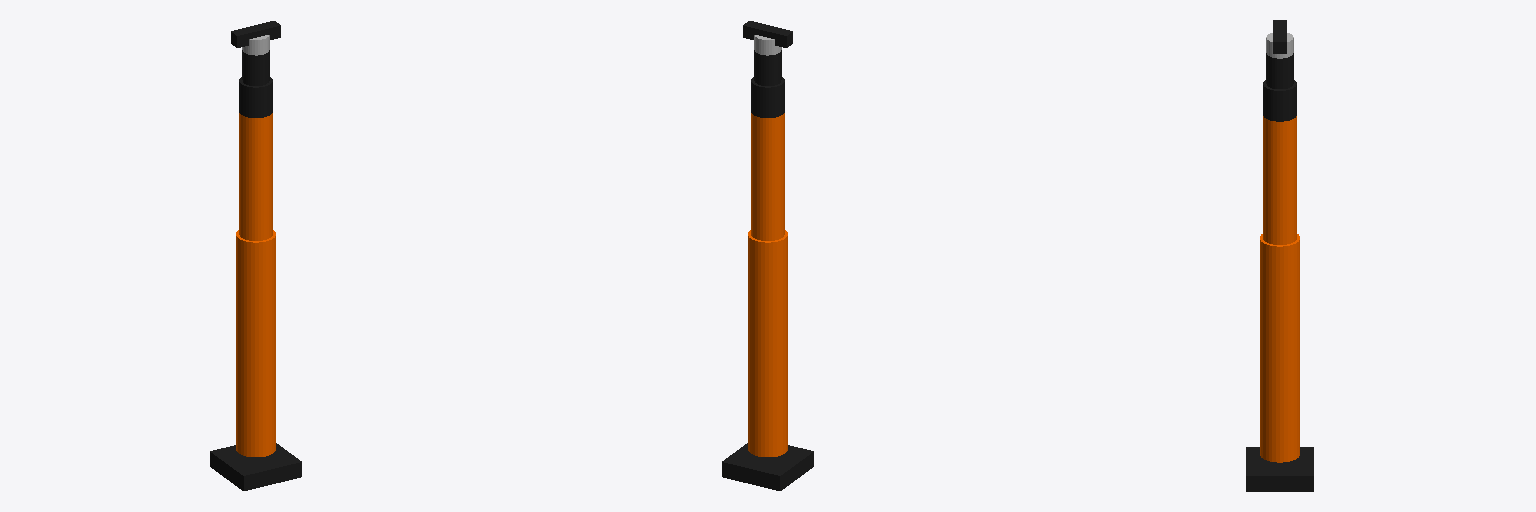
URDF robot description (six_dof_robot):
<?xml version="1.0"?>
<robot name="six_dof_robot">

  <material name="industrial_orange"><color rgba="1.0 0.45 0.0 1"/></material>
  <material name="dark_grey"><color rgba="0.15 0.15 0.15 1"/></material>
  <material name="metal_silver"><color rgba="0.75 0.75 0.75 1"/></material>

  <link name="world"/>
  <joint name="world_joint" type="fixed">
    <parent link="world"/>
    <child link="base_link"/>
  </joint>

  <link name="base_link">
    <visual>
      <geometry><box size="0.2 0.2 0.05"/></geometry>
      <material name="dark_grey"/>
    </visual>
    <collision><geometry><box size="0.2 0.2 0.05"/></geometry></collision>
    <inertial><mass value="10.0"/><inertia ixx="0.1" ixy="0" ixz="0" iyy="0.1" iyz="0" izz="0.1"/></inertial>
  </link>

  <joint name="joint1" type="revolute">
    <parent link="base_link"/>
    <child link="link1"/>
    <origin xyz="0 0 0.05" rpy="0 0 0"/>
    <axis xyz="0 0 1"/>
    <limit lower="-3.14" upper="3.14" effort="50.0" velocity="5.0"/> 
    <dynamics damping="0.5" friction="0.1"/>
  </joint>
  <link name="link1">
    <visual>
      <origin xyz="0 0 0.15" rpy="0 0 0"/>
      <geometry><cylinder length="0.3" radius="0.06"/></geometry>
      <material name="industrial_orange"/>
    </visual>
    <collision>
      <origin xyz="0 0 0.15" rpy="0 0 0"/>
      <geometry><cylinder length="0.29" radius="0.06"/></geometry>
    </collision>
    <inertial>
      <mass value="2.0"/>
      <inertia ixx="0.016" ixy="0" ixz="0" iyy="0.016" iyz="0" izz="0.0036"/>
    </inertial>
  </link>

  <joint name="joint2" type="revolute">
    <parent link="link1"/>
    <child link="link2"/>
    <origin xyz="0 0 0.3" rpy="0 0 0"/>
    <axis xyz="0 1 0"/>
    <limit lower="-1.57" upper="1.57" effort="50.0" velocity="5.0"/>
    <dynamics damping="0.5" friction="0.1"/>
  </joint>
  <link name="link2">
    <visual>
      <origin xyz="0 0 0.2" rpy="0 0 0"/>
      <geometry><cylinder length="0.4" radius="0.06"/></geometry>
      <material name="industrial_orange"/>
    </visual>
    <collision>
      <origin xyz="0 0 0.2" rpy="0 0 0"/>
      <geometry><cylinder length="0.39" radius="0.06"/></geometry>
    </collision>
    <inertial>
      <mass value="1.0"/>
      <inertia ixx="0.014" ixy="0" ixz="0" iyy="0.014" iyz="0" izz="0.0018"/>
    </inertial>
  </link>

  <joint name="joint3" type="revolute">
    <parent link="link2"/>
    <child link="link3"/>
    <origin xyz="0 0 0.4" rpy="0 0 0"/>
    <axis xyz="0 1 0"/>
    <limit lower="-1.57" upper="1.57" effort="50.0" velocity="5.0"/>
    <dynamics damping="0.5" friction="0.1"/>
  </joint>
  <link name="link3">
    <visual>
      <origin xyz="0 0 0.2" rpy="0 0 0"/>
      <geometry><cylinder length="0.4" radius="0.05"/></geometry>
      <material name="industrial_orange"/>
    </visual>
    <collision>
      <origin xyz="0 0 0.2" rpy="0 0 0"/>
      <geometry><cylinder length="0.39" radius="0.05"/></geometry>
    </collision>
    <inertial>
      <mass value="1.0"/>
      <inertia ixx="0.014" ixy="0" ixz="0" iyy="0.014" iyz="0" izz="0.0012"/>
    </inertial>
  </link>

  <joint name="joint4" type="revolute">
    <parent link="link3"/>
    <child link="link4"/>
    <origin xyz="0 0 0.4" rpy="0 0 0"/>
    <axis xyz="1 0 0"/>
    <limit lower="-3.14" upper="3.14" effort="30.0" velocity="5.0"/>
    <dynamics damping="0.5" friction="0.1"/>
  </joint>
  <link name="link4">
    <visual>
      <origin xyz="0 0 0.05" rpy="0 0 0"/>
      <geometry><cylinder length="0.1" radius="0.05"/></geometry>
      <material name="dark_grey"/>
    </visual>
    <collision>
      <origin xyz="0 0 0.05" rpy="0 0 0"/>
      <geometry><cylinder length="0.09" radius="0.05"/></geometry>
    </collision>
    <inertial><mass value="0.5"/><inertia ixx="0.001" ixy="0" ixz="0" iyy="0.001" iyz="0" izz="0.001"/></inertial>
  </link>

  <joint name="joint5" type="revolute">
    <parent link="link4"/>
    <child link="link5"/>
    <origin xyz="0 0 0.1" rpy="0 0 0"/>
    <axis xyz="0 1 0"/>
    <limit lower="-1.57" upper="1.57" effort="30.0" velocity="5.0"/>
    <dynamics damping="0.1" friction="0.1"/>
  </joint>
  <link name="link5">
     <visual>
      <origin xyz="0 0 0.05" rpy="0 0 0"/>
      <geometry><cylinder length="0.1" radius="0.04"/></geometry>
      <material name="dark_grey"/>
    </visual>
    <collision>
      <origin xyz="0 0 0.05" rpy="0 0 0"/>
      <geometry><cylinder length="0.1" radius="0.04"/></geometry>
    </collision>
    <inertial><mass value="0.2"/><inertia ixx="0.001" ixy="0" ixz="0" iyy="0.001" iyz="0" izz="0.001"/></inertial>
  </link>

  <joint name="joint6" type="revolute">
    <parent link="link5"/>
    <child link="link6"/>
    <origin xyz="0 0 0.1" rpy="0 0 0"/>
    <axis xyz="1 0 0"/>
    <limit lower="-3.14" upper="3.14" effort="30.0" velocity="5.0"/>
    <dynamics damping="0.1" friction="0.1"/>
  </joint>
  <link name="link6">
    <visual>
      <origin xyz="0 0 0.025" rpy="0 0 0"/>
      <geometry><cylinder length="0.05" radius="0.04"/></geometry>
      <material name="metal_silver"/>
    </visual>
    <collision>
      <origin xyz="0 0 0.025" rpy="0 0 0"/>
      <geometry><cylinder length="0.05" radius="0.04"/></geometry>
    </collision>
    <inertial><mass value="0.1"/><inertia ixx="0.0001" ixy="0" ixz="0" iyy="0.0001" iyz="0" izz="0.0001"/></inertial>
  </link>

  <joint name="gripper_base_joint" type="fixed">
    <parent link="link6"/>
    <child link="gripper_base"/>
    <origin xyz="0 0 0.05" rpy="0 0 0"/>
  </joint>
  <link name="gripper_base">
    <visual><geometry><box size="0.15 0.04 0.04"/></geometry><material name="dark_grey"/></visual>
    <collision><geometry><box size="0.15 0.04 0.04"/></geometry></collision>
    <inertial><mass value="0.1"/><inertia ixx="0.001" ixy="0" ixz="0" iyy="0.001" iyz="0" izz="0.001"/></inertial>
  </link>

  <ros2_control name="GazeboSystem" type="system">
    <hardware><plugin>gz_ros2_control/GazeboSimSystem</plugin></hardware>
    <joint name="joint1"><command_interface name="position"/><state_interface name="position"/></joint>
    <joint name="joint2"><command_interface name="position"/><state_interface name="position"/></joint>
    <joint name="joint3"><command_interface name="position"/><state_interface name="position"/></joint>
    <joint name="joint4"><command_interface name="position"/><state_interface name="position"/></joint>
    <joint name="joint5"><command_interface name="position"/><state_interface name="position"/></joint>
    <joint name="joint6"><command_interface name="position"/><state_interface name="position"/></joint>
    <joint name="finger_left_joint"><command_interface name="position"/><state_interface name="position"/></joint>
    <joint name="finger_right_joint"><command_interface name="position"/><state_interface name="position"/></joint>
  </ros2_control>

  <gazebo>
    <plugin filename="libgz_ros2_control-system.so" name="gz_ros2_control::GazeboSimROS2ControlPlugin">
          <parameters>/home/deepak/6_dof/config/ros2_control.yaml</parameters>
       </plugin>
  </gazebo>

</robot>

--- Facts derived from the render (not from the file) ---
Views: 3 orthographic renders of the robot side by side, from view 1: azimuth 30°, elevation 25°; view 2: azimuth 150°, elevation 25°; view 3: azimuth 270°, elevation 25°.
Model six_dof_robot with 9 links and 8 joints (6 revolute, 2 fixed), rooted at world, posed every joint at zero.
Links seen in each view (by area): view 1: link2, link3, link1, base_link, link4, link5, gripper_base; view 2: link2, link3, link1, base_link, link4, link5, gripper_base; view 3: link2, link3, link1, base_link, link4, link5.
Boxes of the visible links, x1=… form: link2: x1=236, y1=230, x2=275, y2=364; link3: x1=239, y1=113, x2=272, y2=240; link1: x1=236, y1=359, x2=275, y2=456; base_link: x1=210, y1=443, x2=301, y2=490; link4: x1=239, y1=77, x2=272, y2=117; link5: x1=242, y1=50, x2=269, y2=85; gripper_base: x1=231, y1=21, x2=280, y2=47; link2: x1=748, y1=230, x2=787, y2=364; link3: x1=751, y1=113, x2=784, y2=240; link1: x1=748, y1=359, x2=787, y2=456; base_link: x1=722, y1=443, x2=813, y2=490; link4: x1=751, y1=77, x2=784, y2=117; link5: x1=754, y1=50, x2=781, y2=85; gripper_base: x1=743, y1=21, x2=792, y2=47; link2: x1=1260, y1=234, x2=1299, y2=369; link3: x1=1263, y1=116, x2=1296, y2=244; link1: x1=1260, y1=364, x2=1299, y2=462; base_link: x1=1246, y1=447, x2=1313, y2=491; link4: x1=1263, y1=80, x2=1296, y2=121; link5: x1=1266, y1=53, x2=1293, y2=88.
Bounding box of the posed robot: 0.2 × 0.2 × 1.45 m (x, y, z).
Geometry: primitives only (box / cylinder / sphere), no mesh files.
